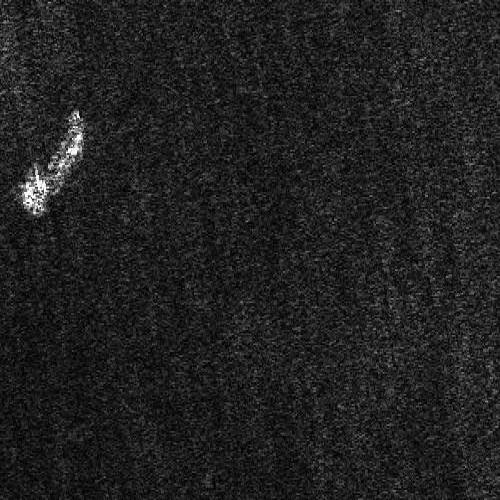ship: (21, 111, 85, 214)
